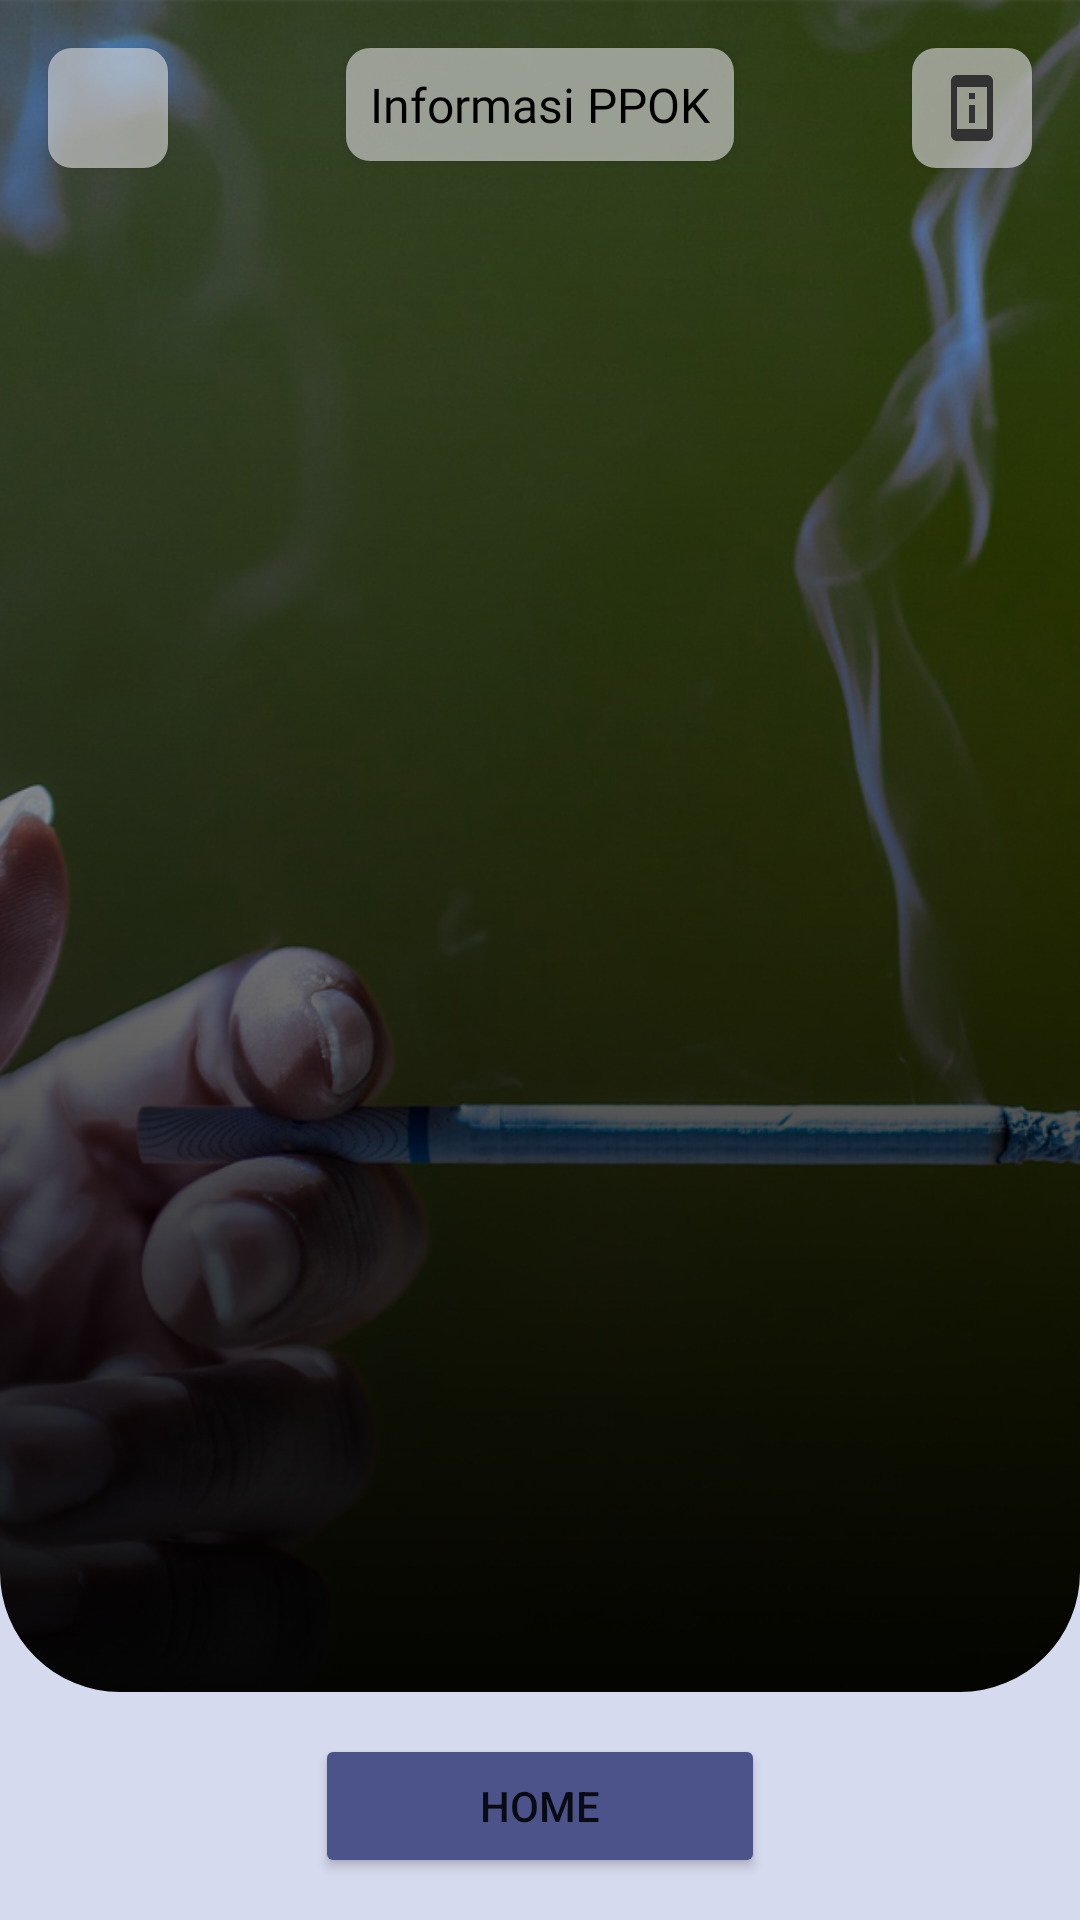

Icons on this 1080w x 1920h Android screen, each with its box as region(x1, y1, x2, y2):
device information: region(912, 48, 1032, 168)
